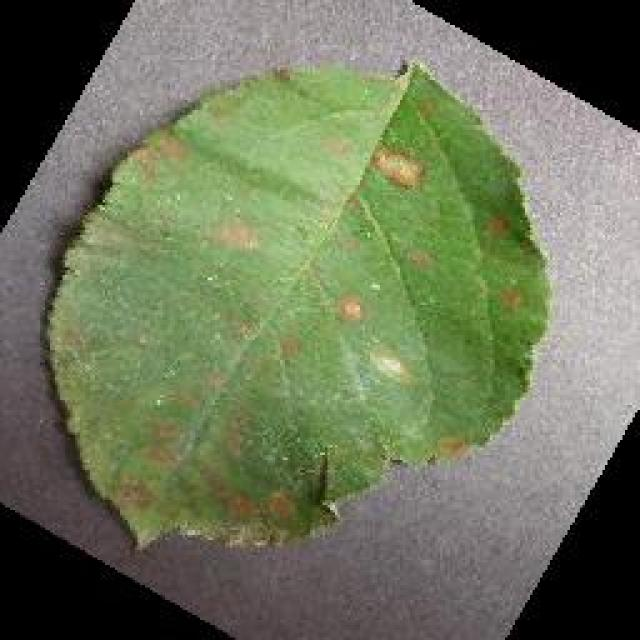apple scab disease: (40, 55, 552, 553)
